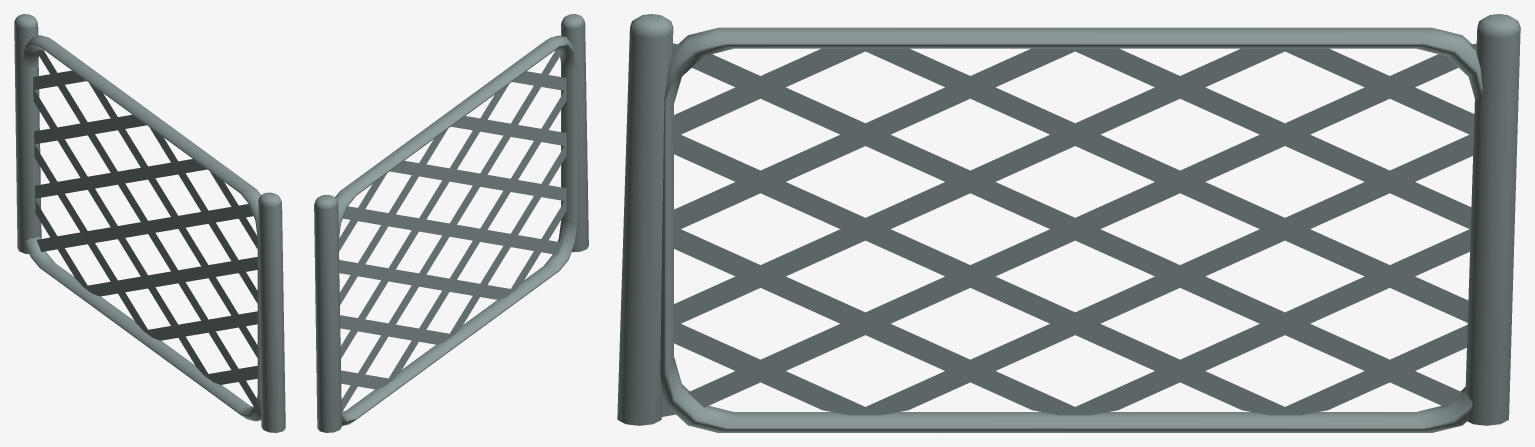
Rendered from telçit.003.fbx.
3 renders of one model, left to right at view 1: azimuth 30°, elevation 25°; view 2: azimuth 150°, elevation 25°; view 3: azimuth 270°, elevation 25°, orthographic. The views are drawn at different scales.
Visible parts, largest first — view 1: telçit.003; view 2: telçit.003; view 3: telçit.003.
Boxes of the visible parts, x1,y1,x2,y2 form: telçit.003: (14, 14, 285, 432); telçit.003: (314, 14, 588, 432); telçit.003: (617, 14, 1520, 432).
Bounding box in the file's own units: 17.67 × 196 × 389.
